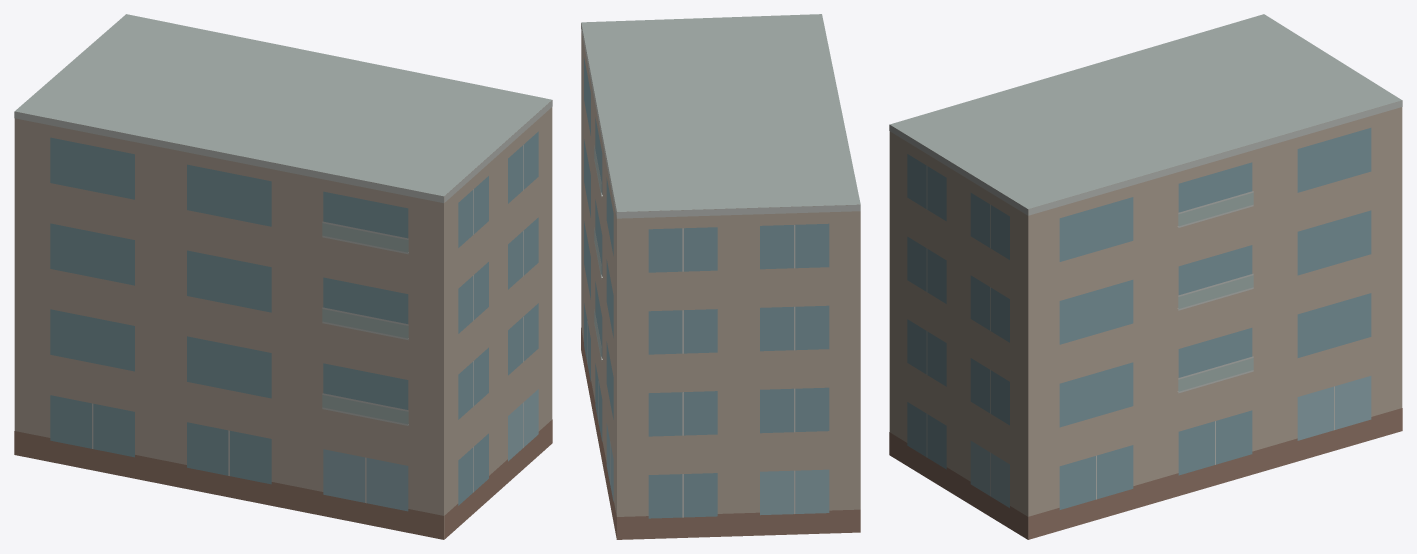
File: survey-upis-33022885.glb
3 renders of one model, left to right at view 1: azimuth 30°, elevation 25°; view 2: azimuth 150°, elevation 25°; view 3: azimuth 270°, elevation 25°, orthographic. The views are drawn at different scales.
Parts seen in each view (by area): view 1: survey-upis-33022885.tmp; view 2: survey-upis-33022885.tmp; view 3: survey-upis-33022885.tmp.
Part boxes in pixels (x1,y1,x2,y2): survey-upis-33022885.tmp: (14, 14, 552, 539); survey-upis-33022885.tmp: (581, 14, 860, 539); survey-upis-33022885.tmp: (889, 14, 1402, 539).
Size of the model in its own units: 15.45 by 12.2 by 17.16.
